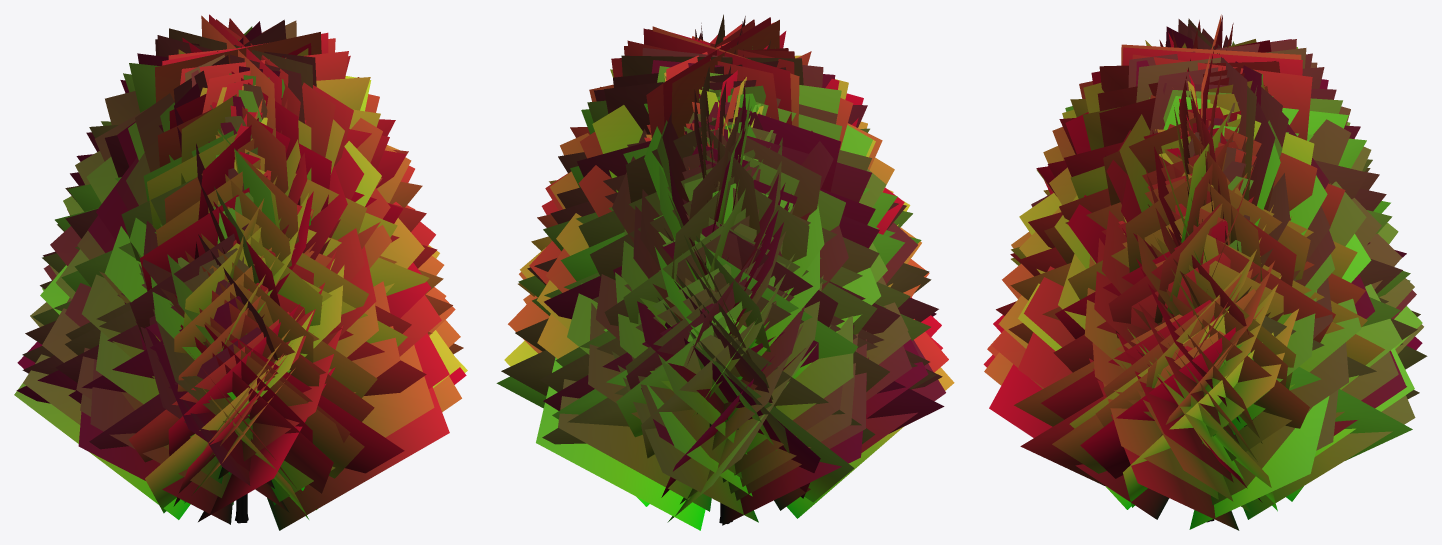
File: URP_P4_Tree_1_LOD_0.fbx
3 renders of one model, left to right at view 1: azimuth 30°, elevation 25°; view 2: azimuth 150°, elevation 25°; view 3: azimuth 270°, elevation 25°, orthographic.
Visible parts, largest first — view 1: Tree_1_LOD_0; view 2: Tree_1_LOD_0; view 3: Tree_1_LOD_0.
Boxes of the visible parts, box(x1,y1,x2,y2) form: Tree_1_LOD_0: box(14, 14, 467, 530); Tree_1_LOD_0: box(496, 14, 954, 530); Tree_1_LOD_0: box(983, 14, 1427, 530).
Bounding box in the file's own units: 209 × 245 × 209.
